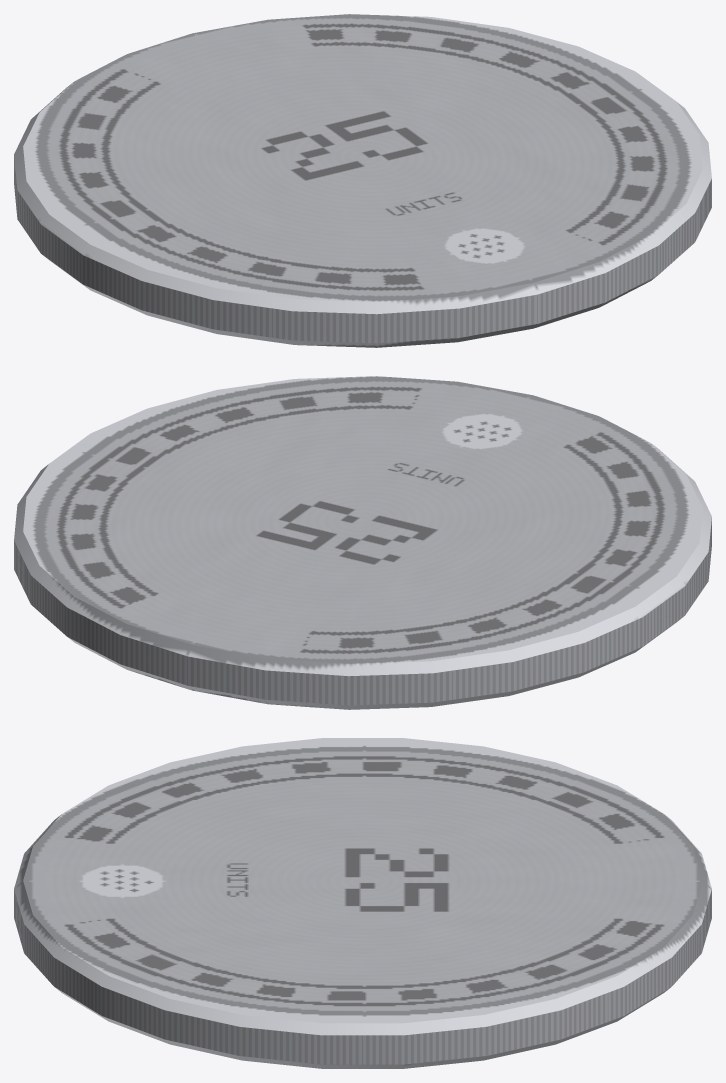
Rendered from cash_coin_25.glb.
3 views of the same model, one above another, from view 1: azimuth 30°, elevation 25°; view 2: azimuth 150°, elevation 25°; view 3: azimuth 270°, elevation 25° (orthographic).
Visible parts, largest first — view 1: Coin_Body; view 2: Coin_Body; view 3: Coin_Body.
Part boxes in pixels (x1,y1,x2,y2): Coin_Body: (14,14,711,347); Coin_Body: (14,376,711,709); Coin_Body: (14,738,711,1068).
Bounding box in the file's own units: 0.0241 × 0.00175 × 0.0243.
1 material, 1 textured.
